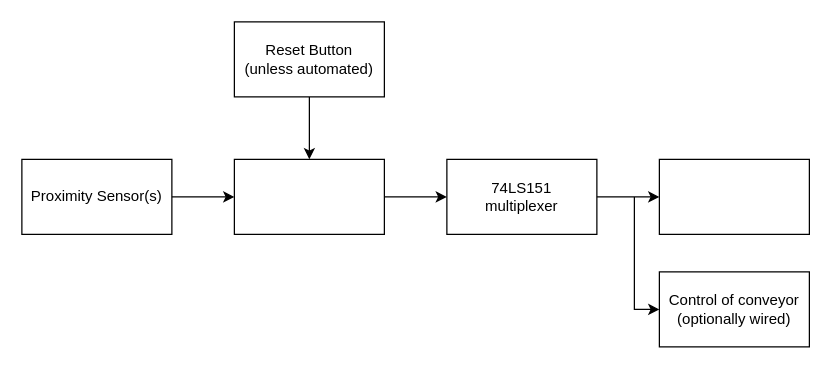
Image size: 831x369. Some labels were removed from this diagram. Here are the shapes that lost their labels. From the top down, the box of each, then its label:
(233, 158, 384, 234): 74HC191 counter (UP mode)
(658, 158, 809, 234): LED Indicator
